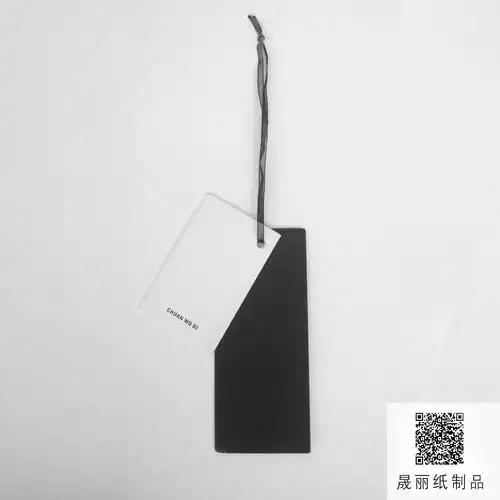Barcode: (399, 411, 482, 474)
